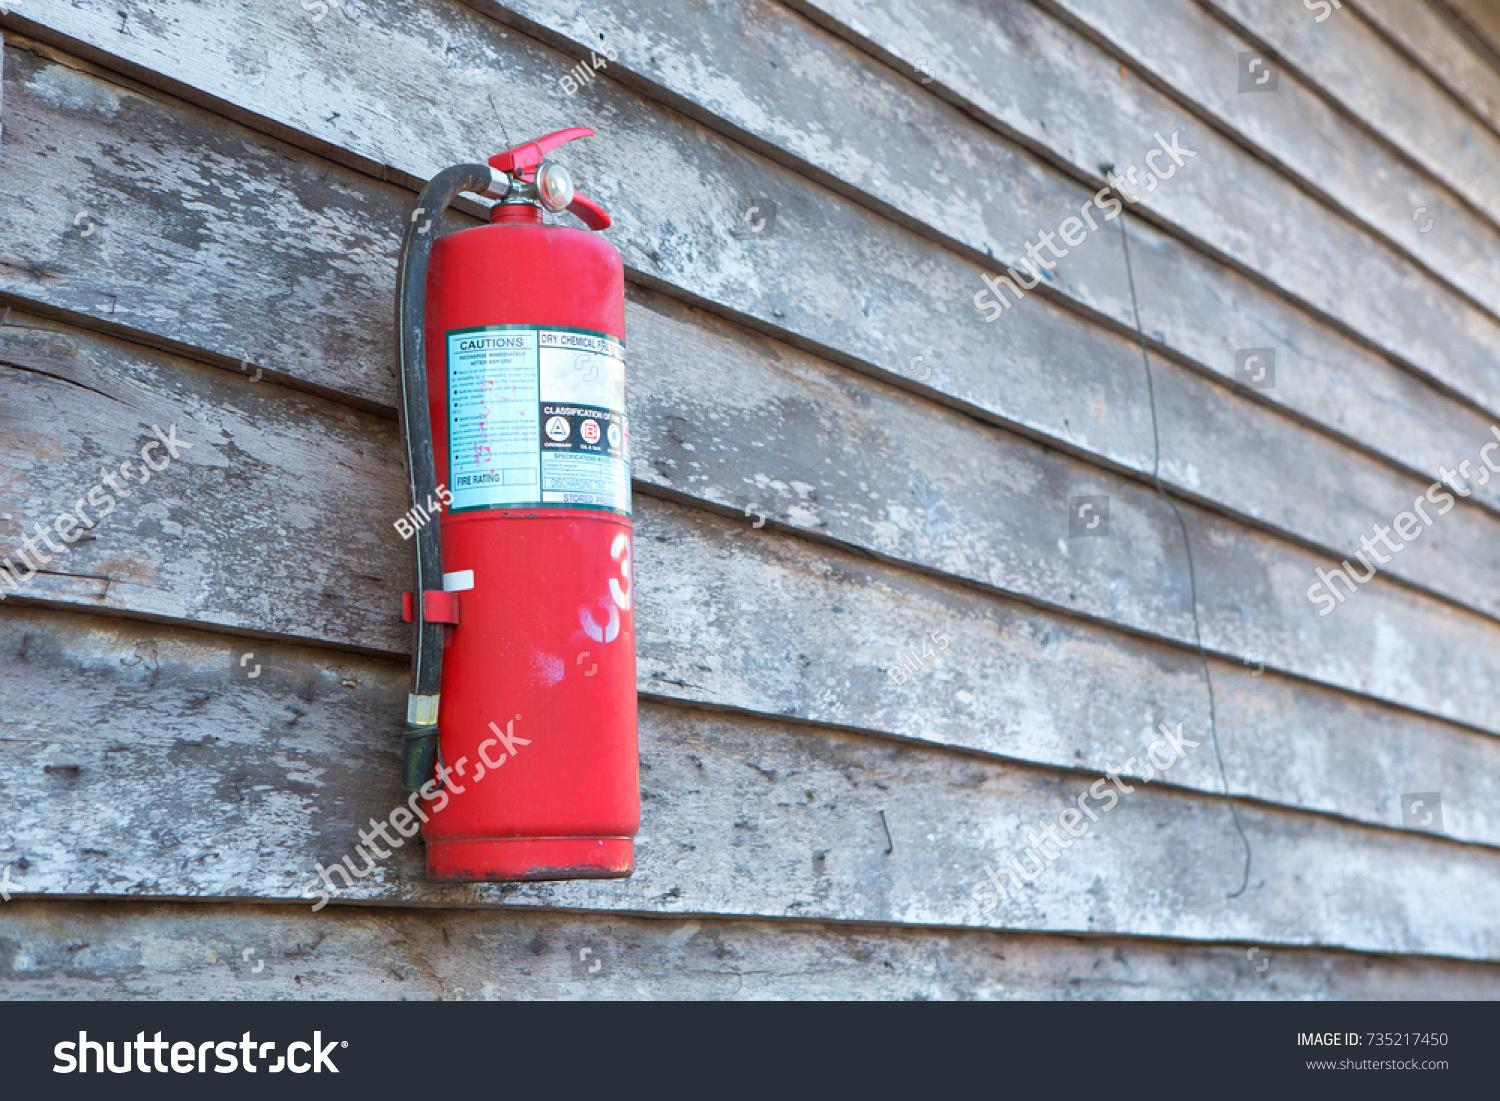wall-mounted: (327, 107, 722, 932)
